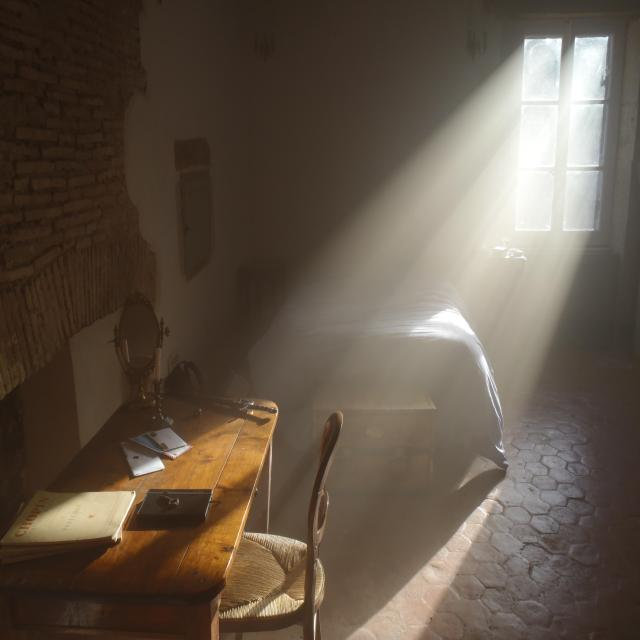other: (506, 45, 563, 240)
